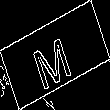M_NW: (32, 23, 78, 87)
